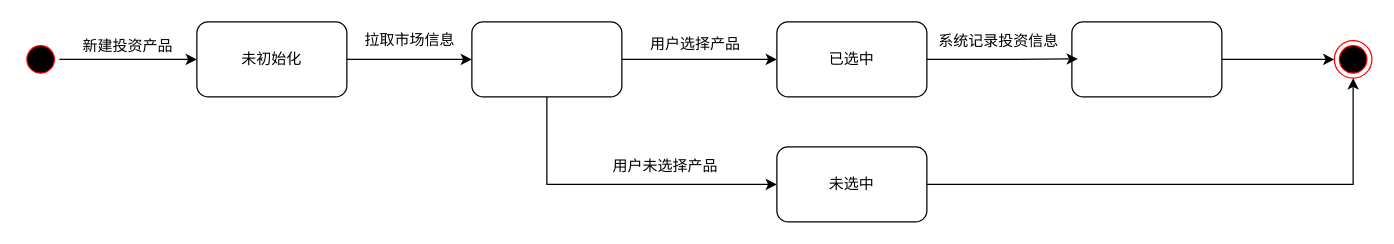
Image size: 1394x244. Some labels were removed from this diagram. Each missing label, with the centre of its shape:
"已结束" goes at (x=1146, y=59).
"成功创建" goes at (x=546, y=59).
